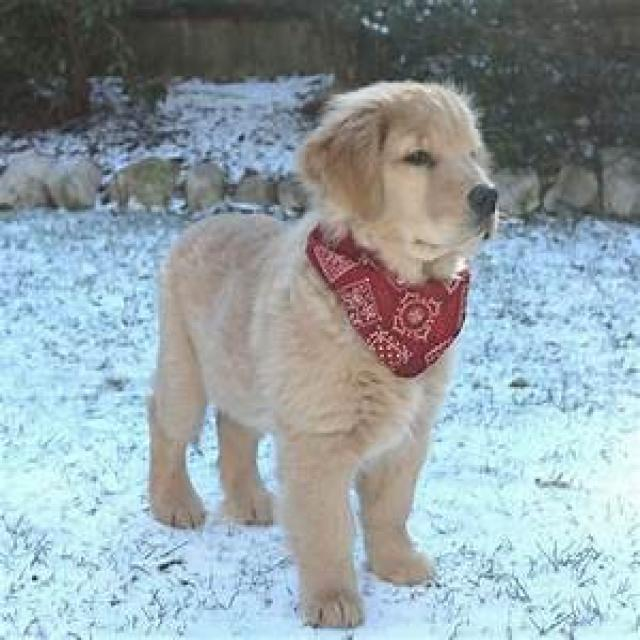dog: (151, 82, 496, 627)
